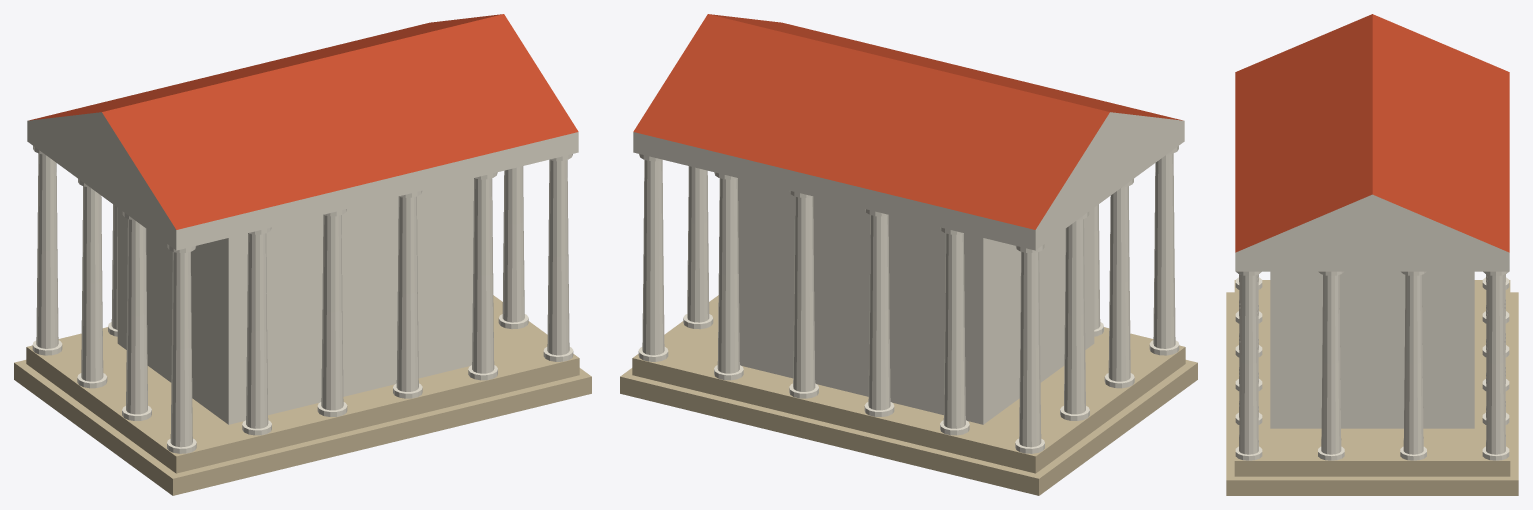
The model's file is building_temple.fbx.
The picture shows the model from 3 angles, left to right: view 1: azimuth 30°, elevation 25°; view 2: azimuth 150°, elevation 25°; view 3: azimuth 270°, elevation 25°; orthographic projection. The views are drawn at different scales.
Parts seen in each view (by area): view 1: building_temple; view 2: building_temple; view 3: building_temple.
Part boxes in pixels (bbox=[...]): building_temple: bbox=[14, 14, 591, 495]; building_temple: bbox=[620, 14, 1197, 495]; building_temple: bbox=[1226, 14, 1518, 495].
Bounding box in the file's own units: 64 × 47.24 × 42.
